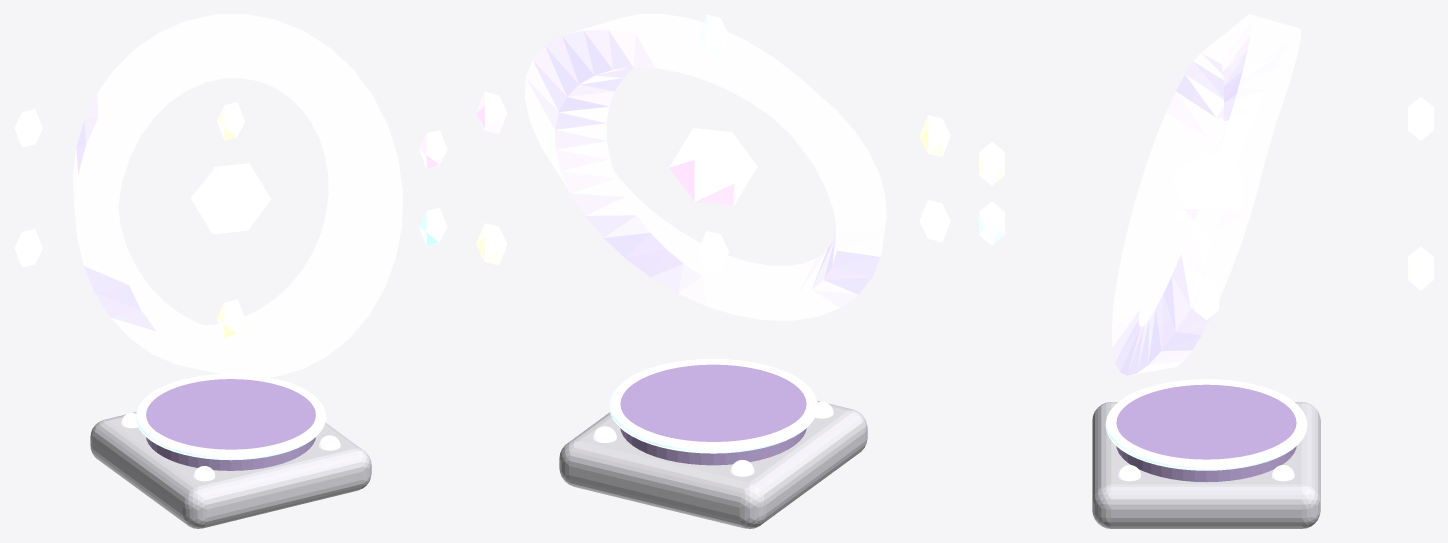
File: mobius-crystal.glb
The picture shows the model from 3 angles, left to right: view 1: azimuth 30°, elevation 25°; view 2: azimuth 150°, elevation 25°; view 3: azimuth 270°, elevation 25°; orthographic projection. The views are drawn at different scales.
Parts seen in each view (by area): view 1: crystal_band, pedestal, pedestal_top, crystal_core, light_ped_ring, gem_0, gem_5, gem_2, gem_4, gem_3, gem_1; view 2: crystal_band, pedestal, pedestal_top, crystal_core, light_ped_ring, gem_2, gem_3, gem_5, gem_0, gem_4; view 3: crystal_band, pedestal, pedestal_top, light_ped_ring, crystal_core, gem_0, gem_1, gem_5, gem_2, gem_4.
Part boxes in pixels (left/top/right/bottom): crystal_band: left=73, top=14, right=402, bottom=378; pedestal: left=90, top=412, right=371, bottom=528; pedestal_top: left=146, top=379, right=315, bottom=470; crystal_core: left=190, top=163, right=271, bottom=234; light_ped_ring: left=136, top=374, right=325, bottom=460; gem_0: left=419, top=130, right=447, bottom=168; gem_5: left=216, top=102, right=245, bottom=140; gem_2: left=216, top=299, right=245, bottom=337; gem_4: left=14, top=109, right=42, bottom=147; gem_3: left=14, top=229, right=42, bottom=267; gem_1: left=419, top=207, right=447, bottom=245; crystal_band: left=525, top=14, right=886, bottom=320; pedestal: left=559, top=400, right=867, bottom=528; pedestal_top: left=620, top=364, right=806, bottom=465; crystal_core: left=669, top=128, right=757, bottom=205; light_ped_ring: left=609, top=359, right=817, bottom=453; gem_2: left=919, top=115, right=950, bottom=156; gem_3: left=919, top=200, right=950, bottom=241; gem_5: left=476, top=223, right=507, bottom=265; gem_0: left=476, top=92, right=507, bottom=133; gem_4: left=698, top=231, right=728, bottom=272; crystal_band: left=1112, top=14, right=1300, bottom=375; pedestal: left=1092, top=402, right=1320, bottom=528; pedestal_top: left=1116, top=384, right=1296, bottom=482; light_ped_ring: left=1105, top=379, right=1307, bottom=470; crystal_core: left=1170, top=151, right=1216, bottom=227; gem_0: left=1193, top=276, right=1219, bottom=320; gem_1: left=979, top=201, right=1004, bottom=245; gem_5: left=1408, top=246, right=1433, bottom=290; gem_2: left=979, top=142, right=1004, bottom=185; gem_4: left=1408, top=97, right=1433, bottom=140.
Bounding box in the file's own units: 5.47 × 5.25 × 4.78.
